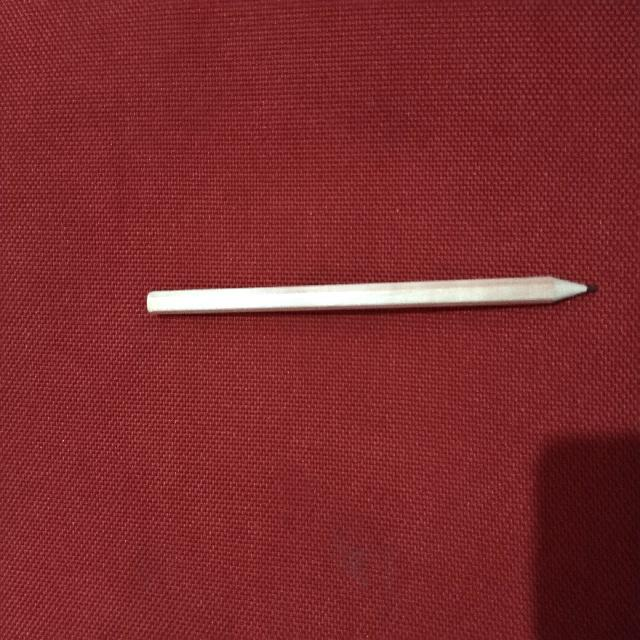pencil: (147, 277, 595, 313)
